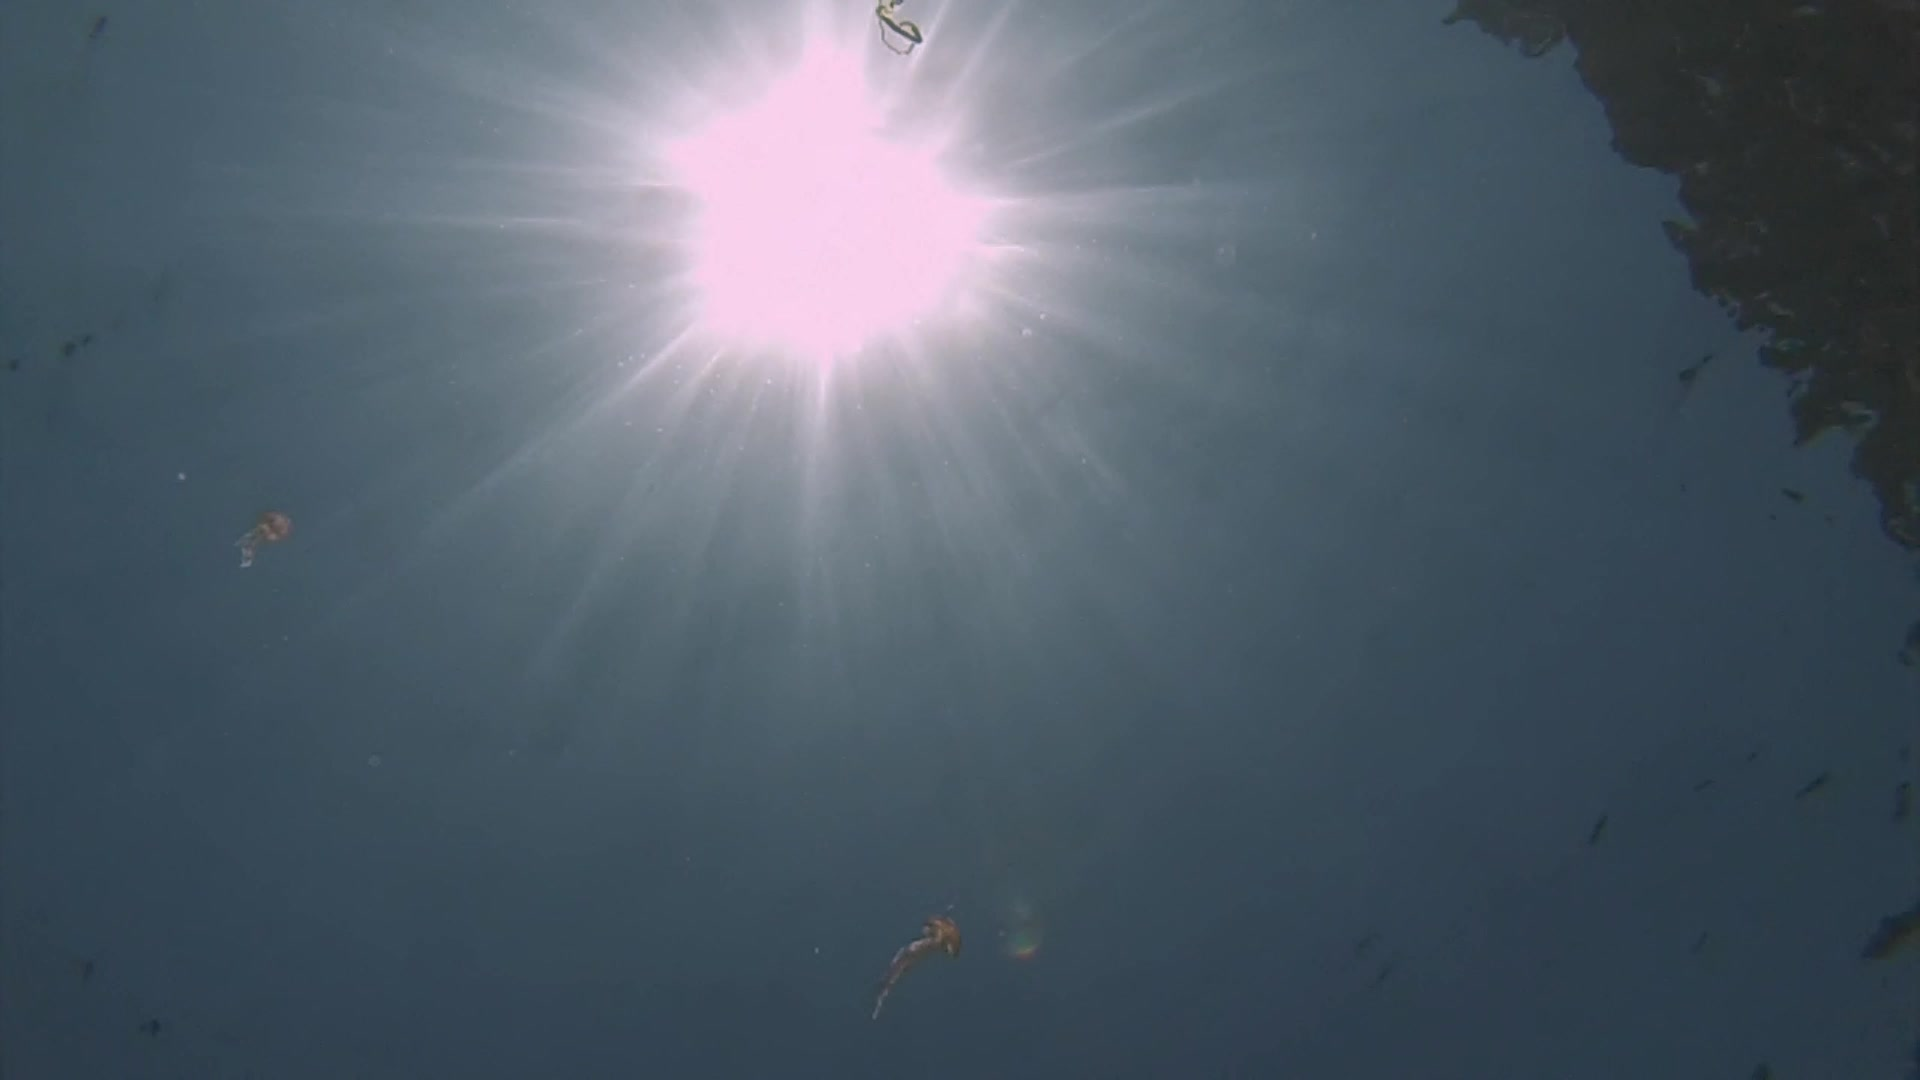pelagia: (872, 905, 971, 1025), (241, 493, 295, 585)
